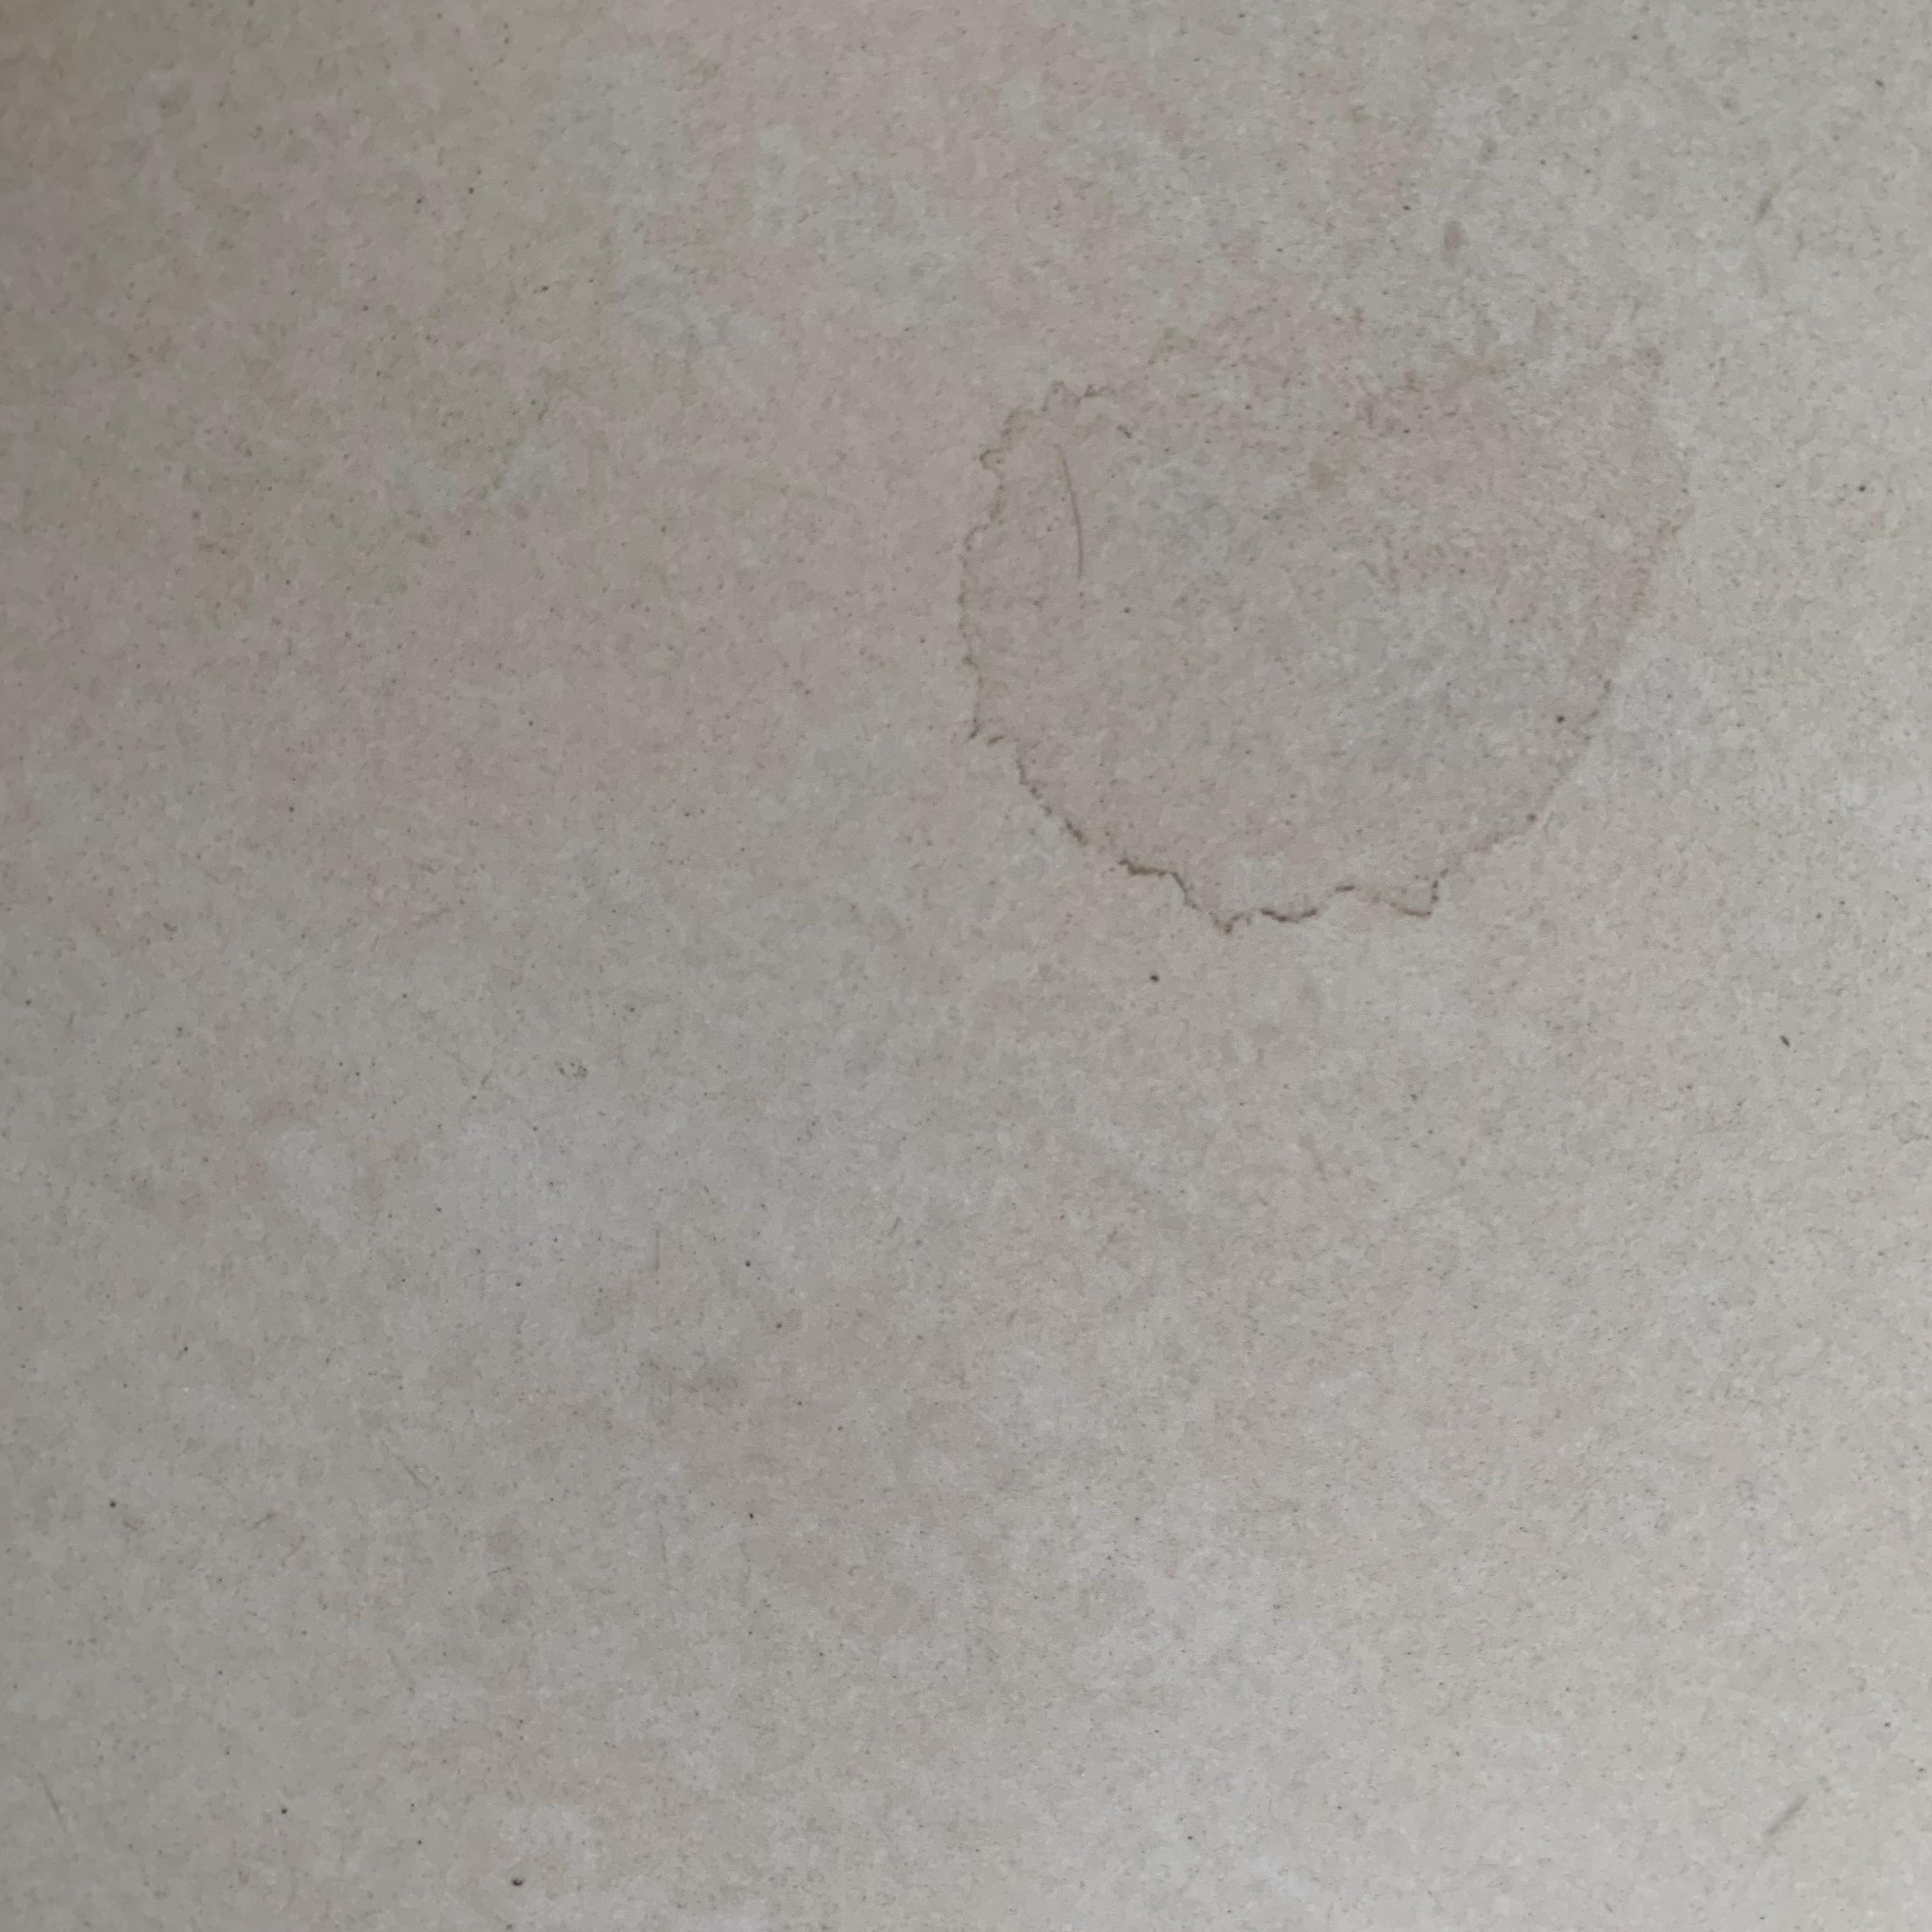grey spot: (959, 303, 1698, 934)
